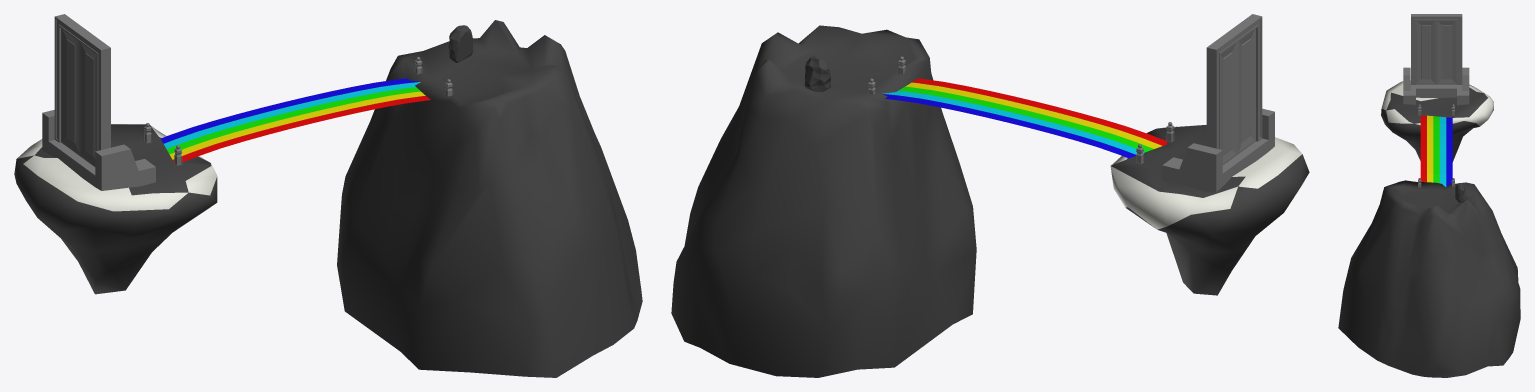
Rendered from Valhalla Gates.fbx.
3 views of the same model, side by side, from view 1: azimuth 30°, elevation 25°; view 2: azimuth 150°, elevation 25°; view 3: azimuth 270°, elevation 25° (orthographic). The views are drawn at different scales.
Visible parts, largest first — view 1: mountain platform, island, rainbow, gate, gate platform, Cube.001, Cube.003; view 2: mountain platform, island, rainbow, gate, gate platform, Cube.001, Cube.003; view 3: mountain platform, island, gate, rainbow, gate platform, Cube.001.
Part boxes in pixels (x1=…): mountain platform: x1=337, y1=20, x2=642, y2=377; island: x1=14, y1=124, x2=217, y2=294; rainbow: x1=161, y1=78, x2=430, y2=162; gate: x1=54, y1=14, x2=110, y2=166; gate platform: x1=42, y1=110, x2=155, y2=190; Cube.001: x1=448, y1=25, x2=473, y2=62; Cube.003: x1=143, y1=57, x2=452, y2=165; mountain platform: x1=671, y1=25, x2=976, y2=377; island: x1=1110, y1=125, x2=1309, y2=295; rainbow: x1=883, y1=78, x2=1167, y2=158; gate: x1=1206, y1=14, x2=1262, y2=165; gate platform: x1=1162, y1=108, x2=1274, y2=192; Cube.001: x1=804, y1=55, x2=830, y2=91; Cube.003: x1=867, y1=56, x2=1174, y2=164; mountain platform: x1=1338, y1=180, x2=1520, y2=377; island: x1=1381, y1=80, x2=1493, y2=161; gate: x1=1411, y1=14, x2=1462, y2=84; rainbow: x1=1420, y1=115, x2=1452, y2=186; gate platform: x1=1403, y1=67, x2=1469, y2=105; Cube.001: x1=1455, y1=183, x2=1467, y2=202.
Size of the model in its own units: 9758 by 6025 by 4575.
